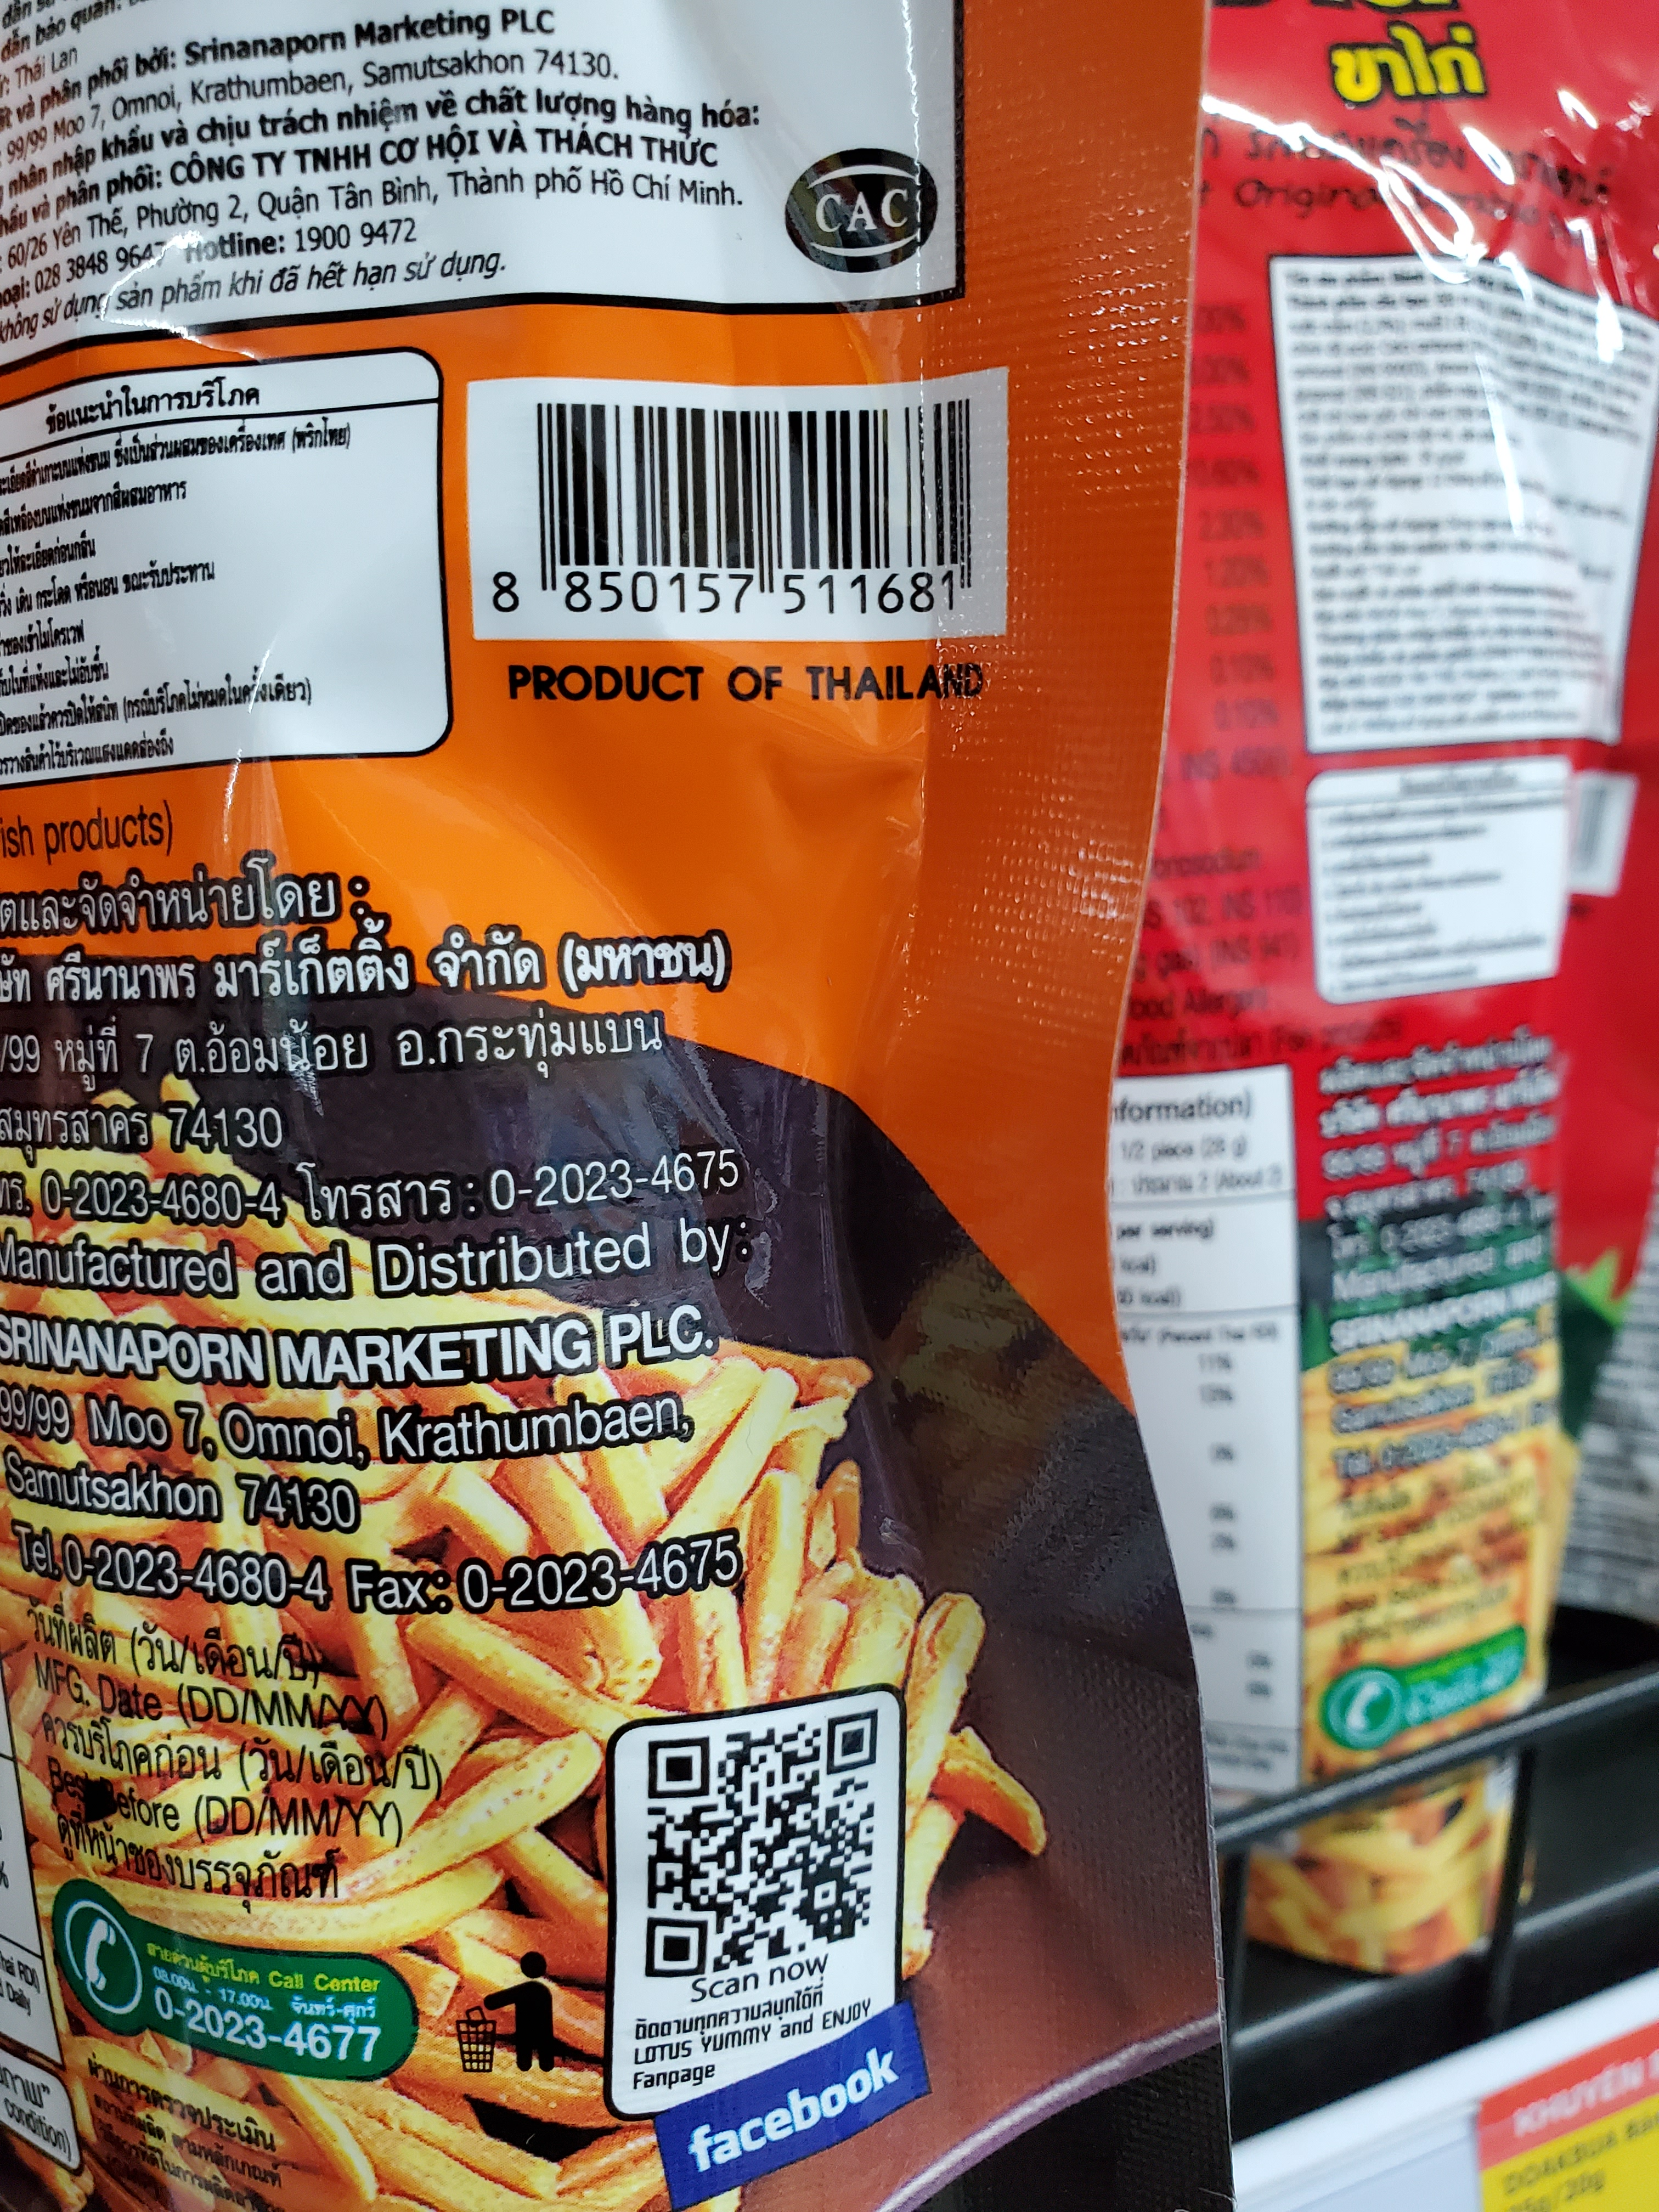barcode: (469, 378, 1007, 634)
qr code: (617, 1698, 890, 1984)
